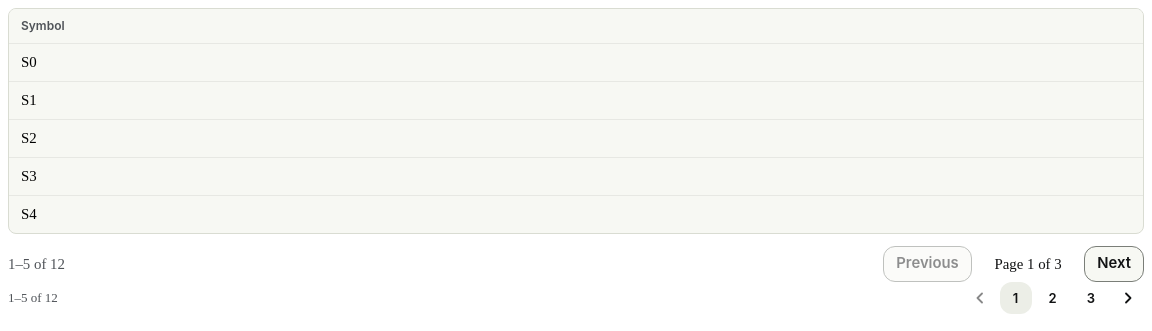
it: Pagination and the shared pagination model › is one model with DataTable: the same range, clamped the same way, driven by the same state
Step 1. Click the button with test id "tbl-next" → (1114, 264), box [1084, 246, 1144, 282]
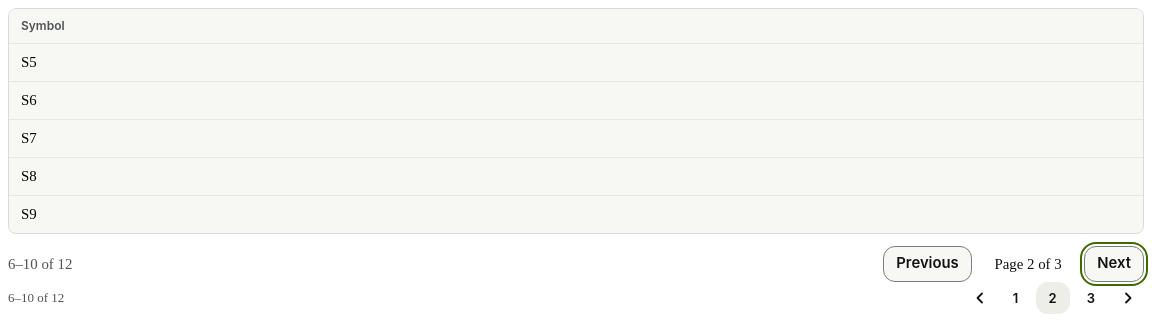
expect the text with class "kit-table-range" reads "6–10 of 12": met, box [8, 256, 72, 272]
expect the text with test id "p-range" reads "6–10 of 12": met, box [8, 290, 64, 305]
Step 2. Click the button with test id "p-next" → (1128, 298), box [1112, 282, 1144, 314]
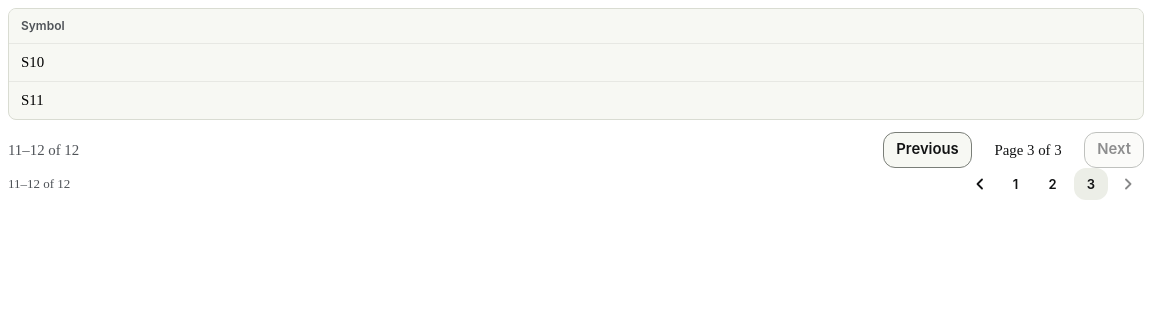
expect the text with class "kit-table-range" reads "11–12 of 12": met, box [8, 142, 79, 158]
